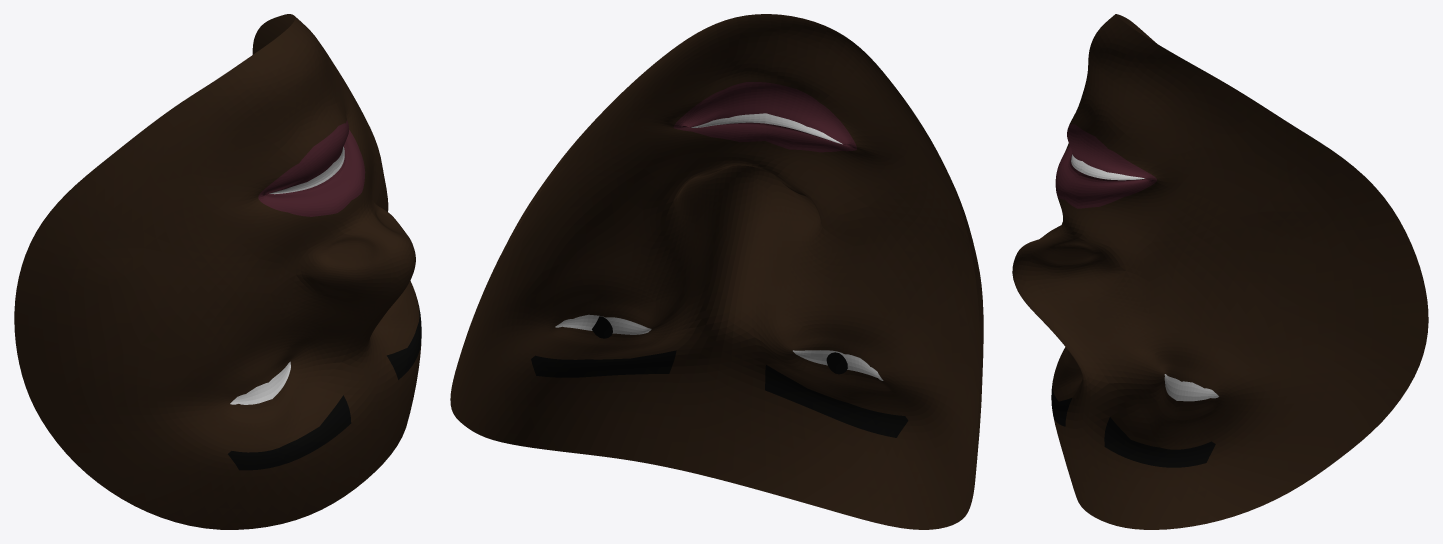
Rendered from frame_00106.obj.
3 views of the same model, side by side, from view 1: azimuth 30°, elevation 25°; view 2: azimuth 150°, elevation 25°; view 3: azimuth 270°, elevation 25° (orthographic). The views are drawn at different scales.
Visible parts, largest first — view 1: face_mesh_subdivided; view 2: face_mesh_subdivided; view 3: face_mesh_subdivided.
Boxes of the visible parts, x1=… form: face_mesh_subdivided: x1=14, y1=14, x2=421, y2=529; face_mesh_subdivided: x1=450, y1=14, x2=983, y2=529; face_mesh_subdivided: x1=1012, y1=14, x2=1428, y2=529.
Bounding box in the file's own units: 0.4959 × 0.5377 × 0.4333.
